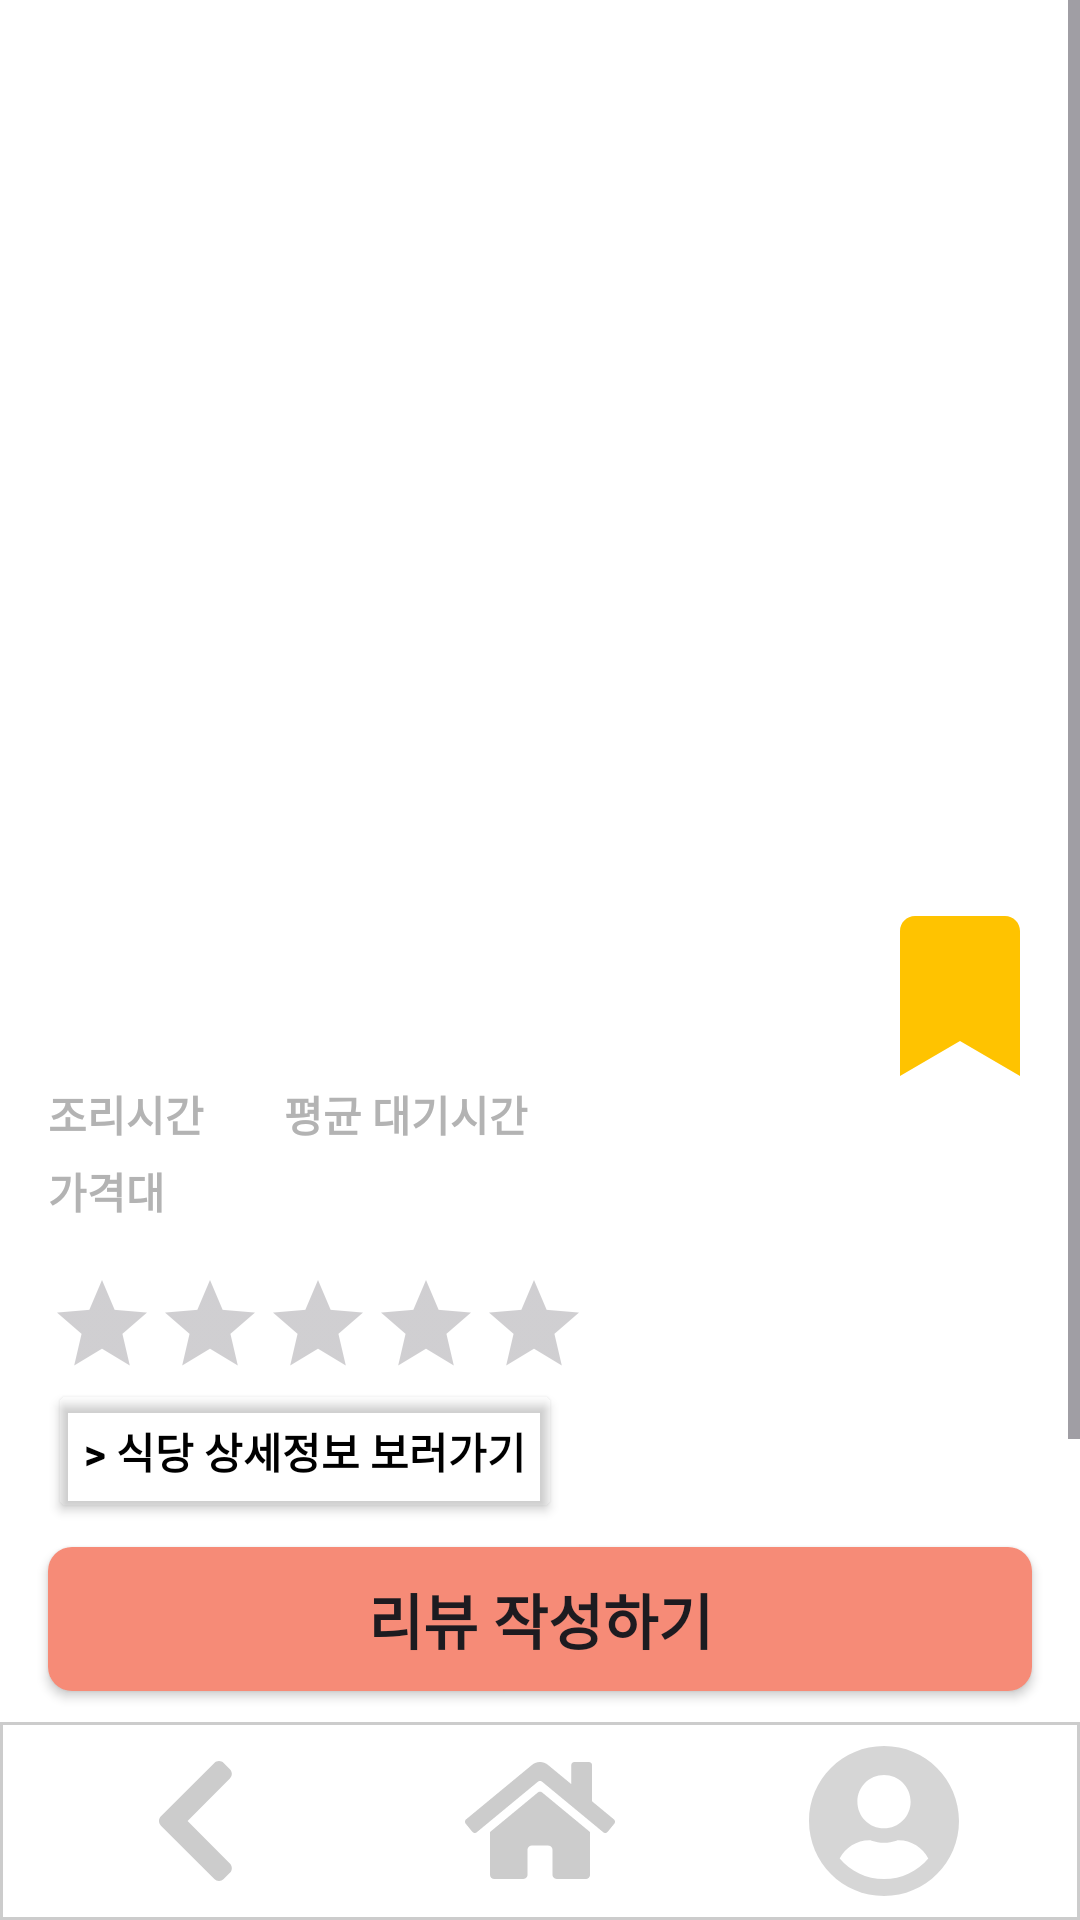

Named icons in this screenshot (1080px×1920px) and their centers, point (x, y):
Back Button: point (195, 1821)
Home Button: point (540, 1820)
My Page Button: point (884, 1821)
스크랩 버튼: point (960, 996)
